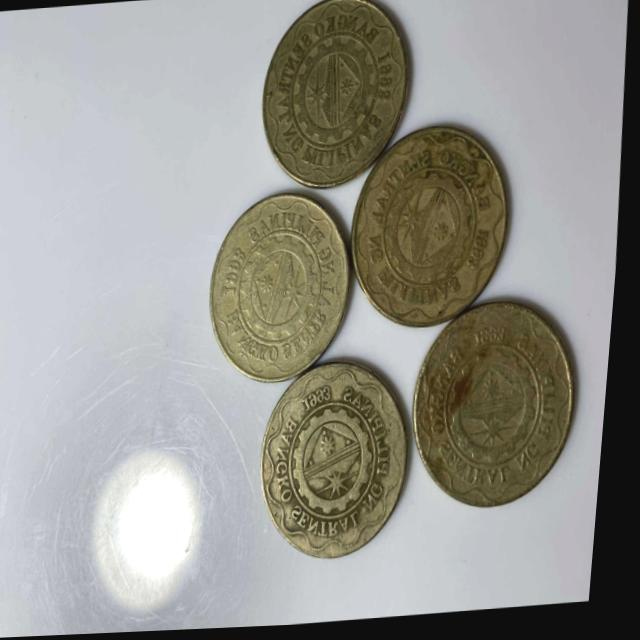5_Old_Back: (416, 317, 585, 521), (261, 367, 419, 567), (352, 132, 517, 321), (254, 0, 413, 194), (206, 198, 358, 378)
